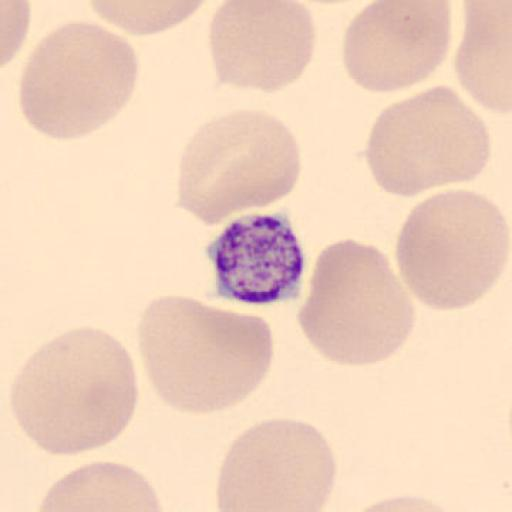Platelet: (205, 209, 310, 307)
RBC: (136, 292, 278, 416), (8, 325, 140, 458), (296, 236, 417, 369), (176, 107, 304, 227), (17, 19, 141, 142), (364, 84, 494, 198), (395, 187, 511, 311), (215, 417, 338, 511), (207, 0, 318, 95), (341, 1, 454, 94), (453, 0, 512, 116), (34, 460, 165, 512), (84, 0, 210, 37), (346, 492, 463, 512), (1, 0, 32, 69)
